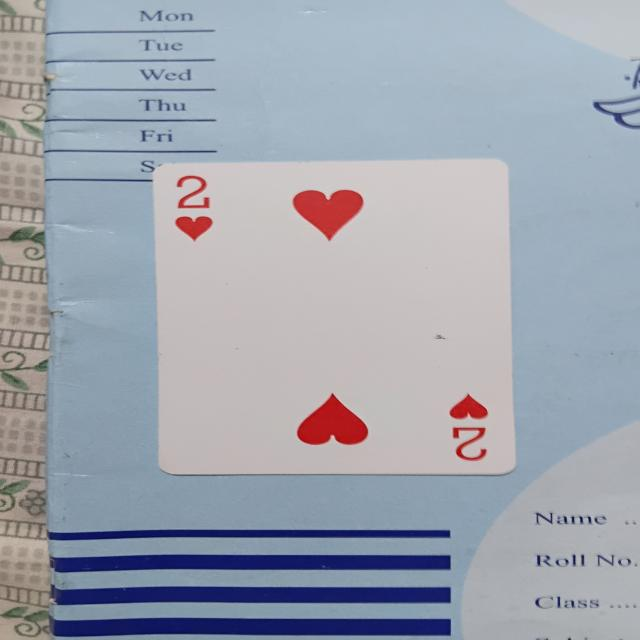2H: (154, 157, 518, 478)
